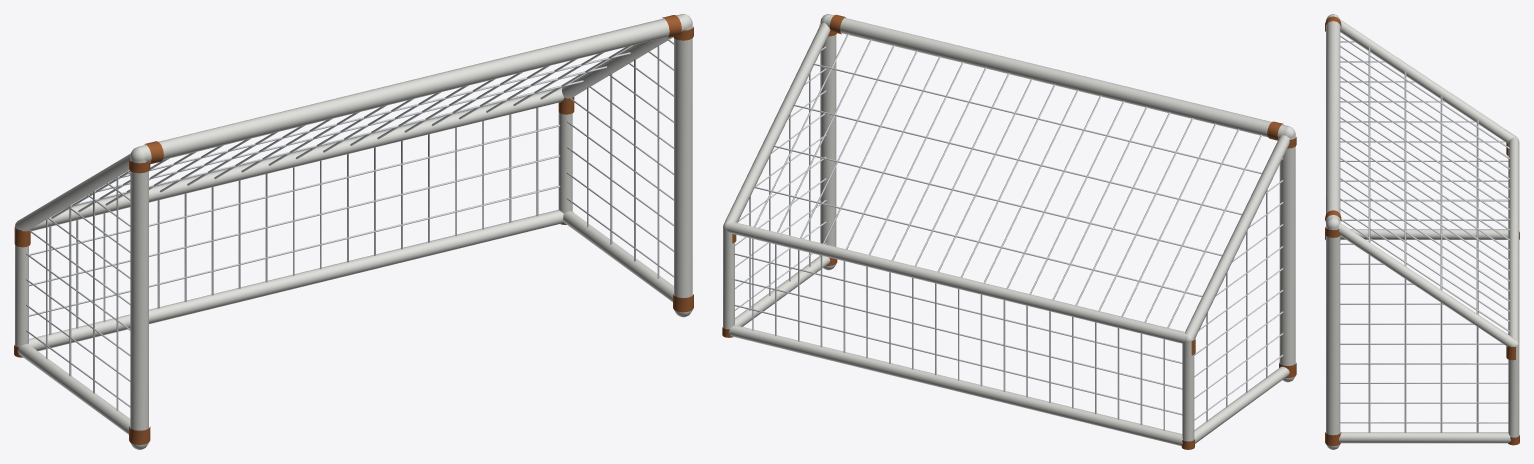
The model's file is gol.glb.
The picture shows the model from 3 angles, left to right: view 1: azimuth 30°, elevation 25°; view 2: azimuth 150°, elevation 25°; view 3: azimuth 270°, elevation 25°; orthographic projection. The views are drawn at different scales.
Parts seen in each view (by area): view 1: Trave, Rede; view 2: Trave, Rede; view 3: Trave, Rede.
Boxes of the visible parts, box(x1,y1,x2,y2) form: Trave: box(14, 14, 693, 449); Rede: box(26, 39, 673, 410); Trave: box(722, 14, 1296, 449); Rede: box(733, 33, 1283, 430); Trave: box(1325, 14, 1519, 449); Rede: box(1340, 35, 1509, 432).
Size of the model in its own units: 4.13 by 2.13 by 1.62.
